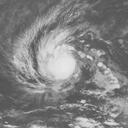cyclone: (11, 3, 81, 92)
